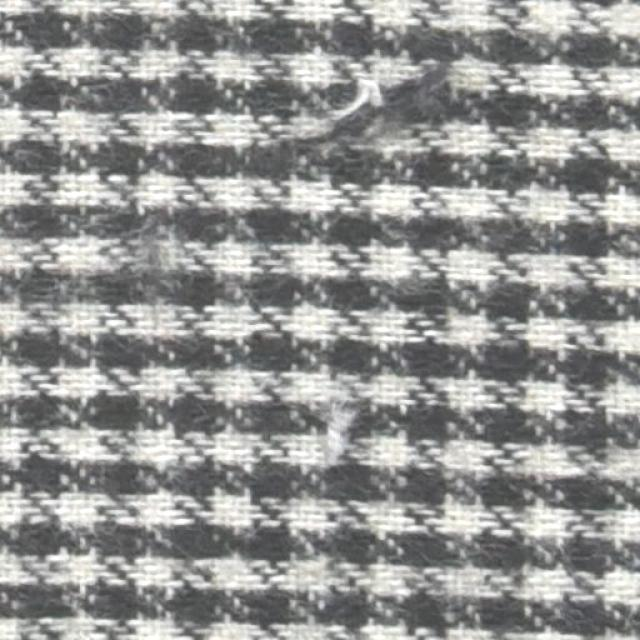Snag: (273, 50, 456, 175)
